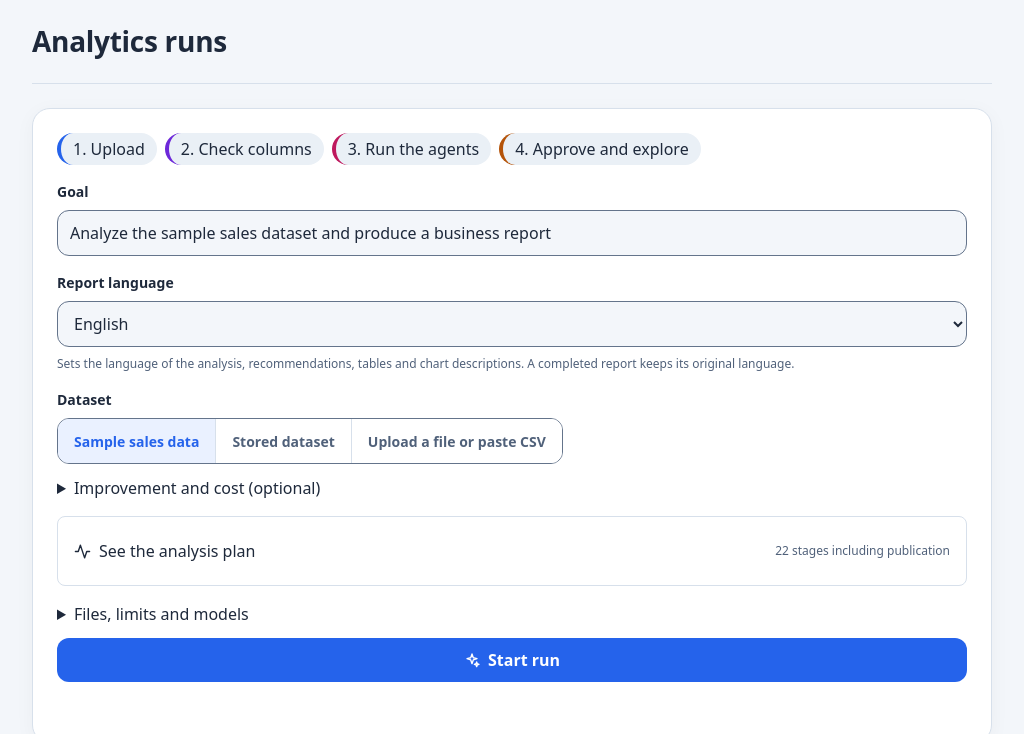
Test: recoverable analysis navigation › ignores a late initial history response after creating a run
The image size is (1024, 734).
What coordinates should you click on to do the following:
click the button "Start run"
I would click on:
 (512, 660)
Its box is [57,638,967,682].
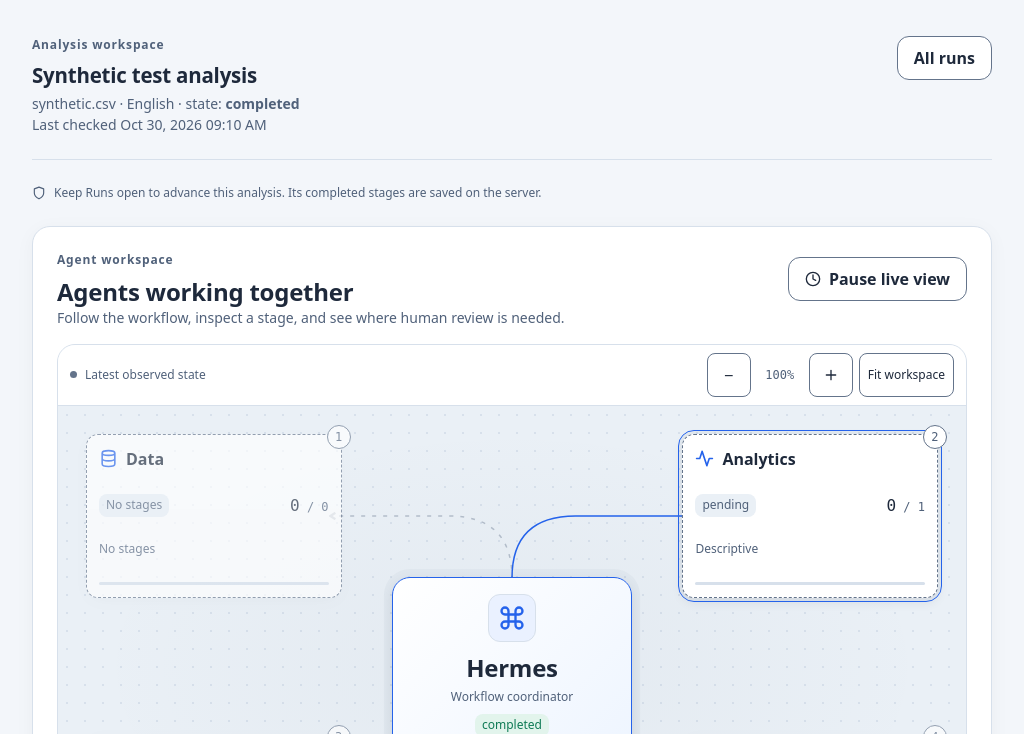
What coordinates should you click on to do the following:
click the button "All runs"
I would click on:
 (944, 58)
Its box is [897,36,992,80].
(page scrolled)
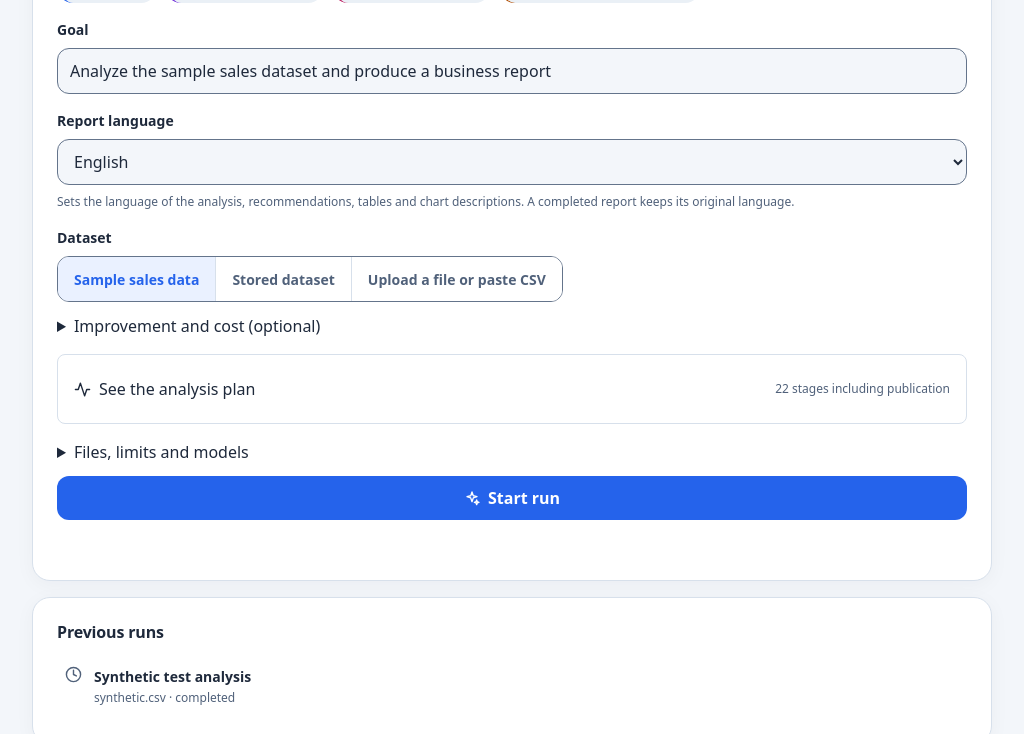
Expected: the element "Previous runs" shows "Synthetic test analysis", [57,654,967,719]
